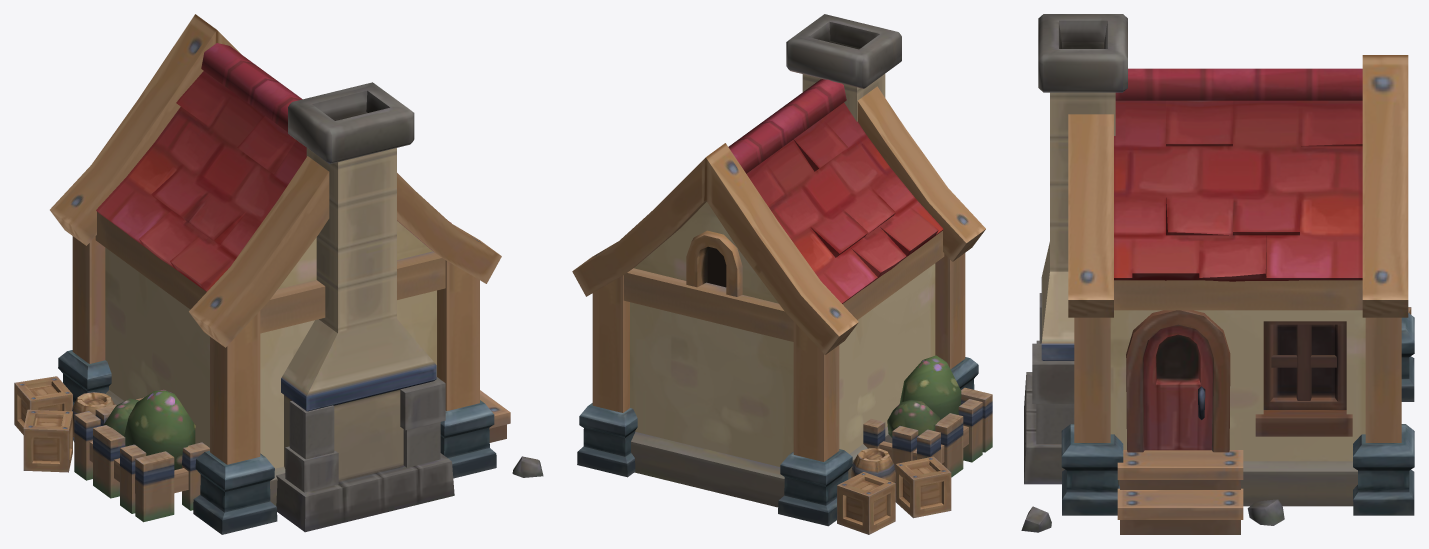
File: house2.glb
The picture shows the model from 3 angles, left to right: view 1: azimuth 30°, elevation 25°; view 2: azimuth 150°, elevation 25°; view 3: azimuth 270°, elevation 25°; orthographic projection. The views are drawn at different scales.
Parts seen in each view (by area): view 1: model_0; view 2: model_0; view 3: model_0.
Boxes of the visible parts, <box> form: model_0: <box>14,14,543,534</box>; model_0: <box>572,14,992,534</box>; model_0: <box>1021,14,1414,534</box>.
Size of the model in its own units: 1561 by 1461 by 1262.
Materials: 1 (1 with a texture image).
